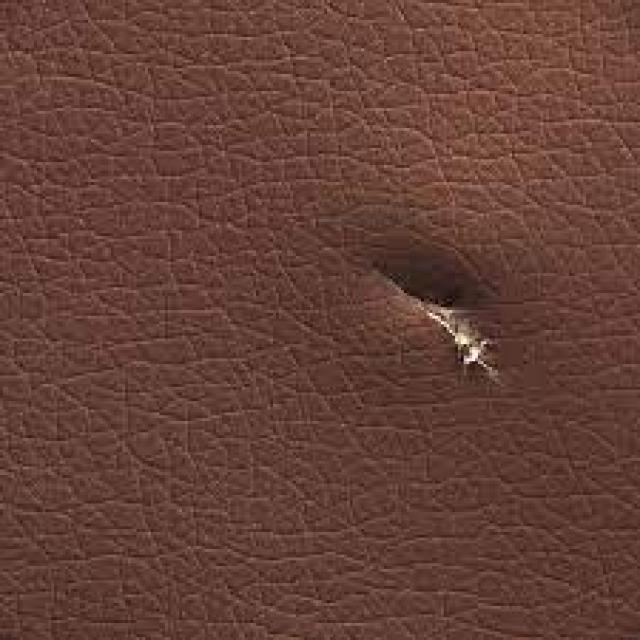Scratch: (308, 205, 544, 426)
